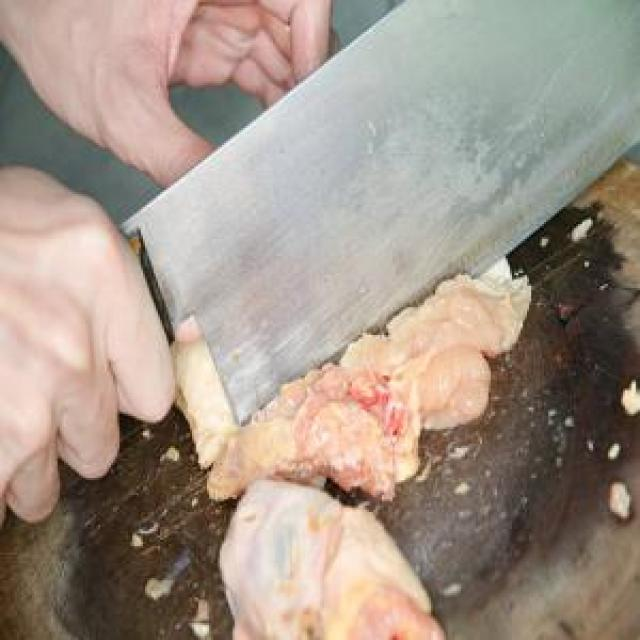knife: (55, 0, 638, 433)
